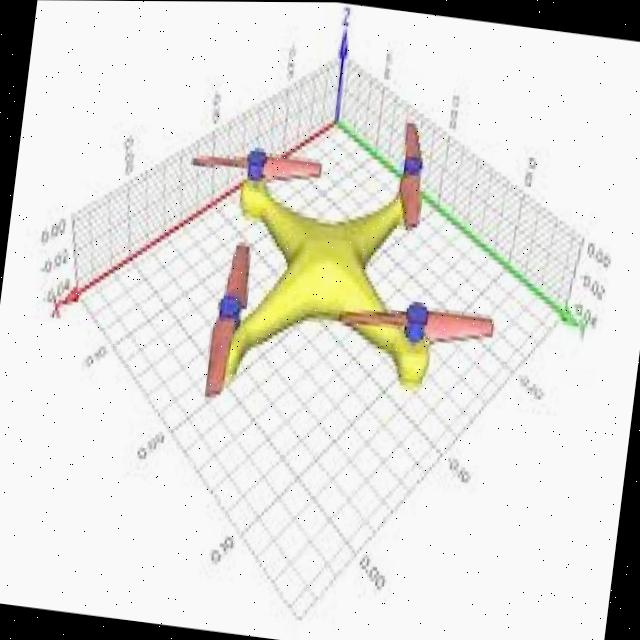drone: (160, 108, 538, 442)
